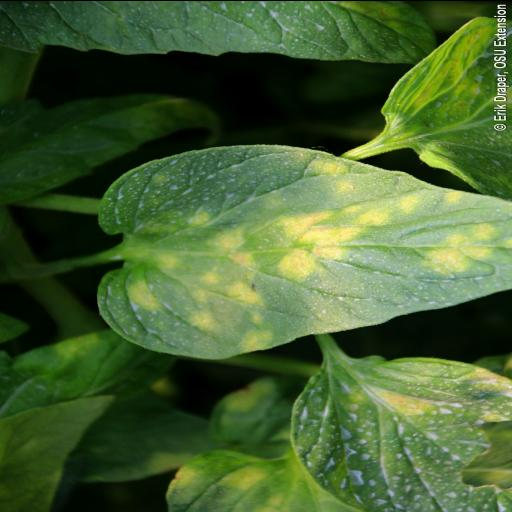Leaf Mold: (95, 142, 512, 360), (284, 354, 512, 512)
